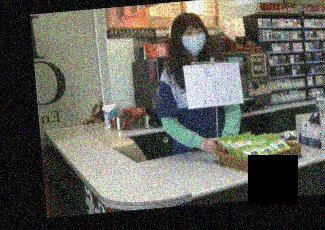with_mask: (181, 25, 207, 55)
